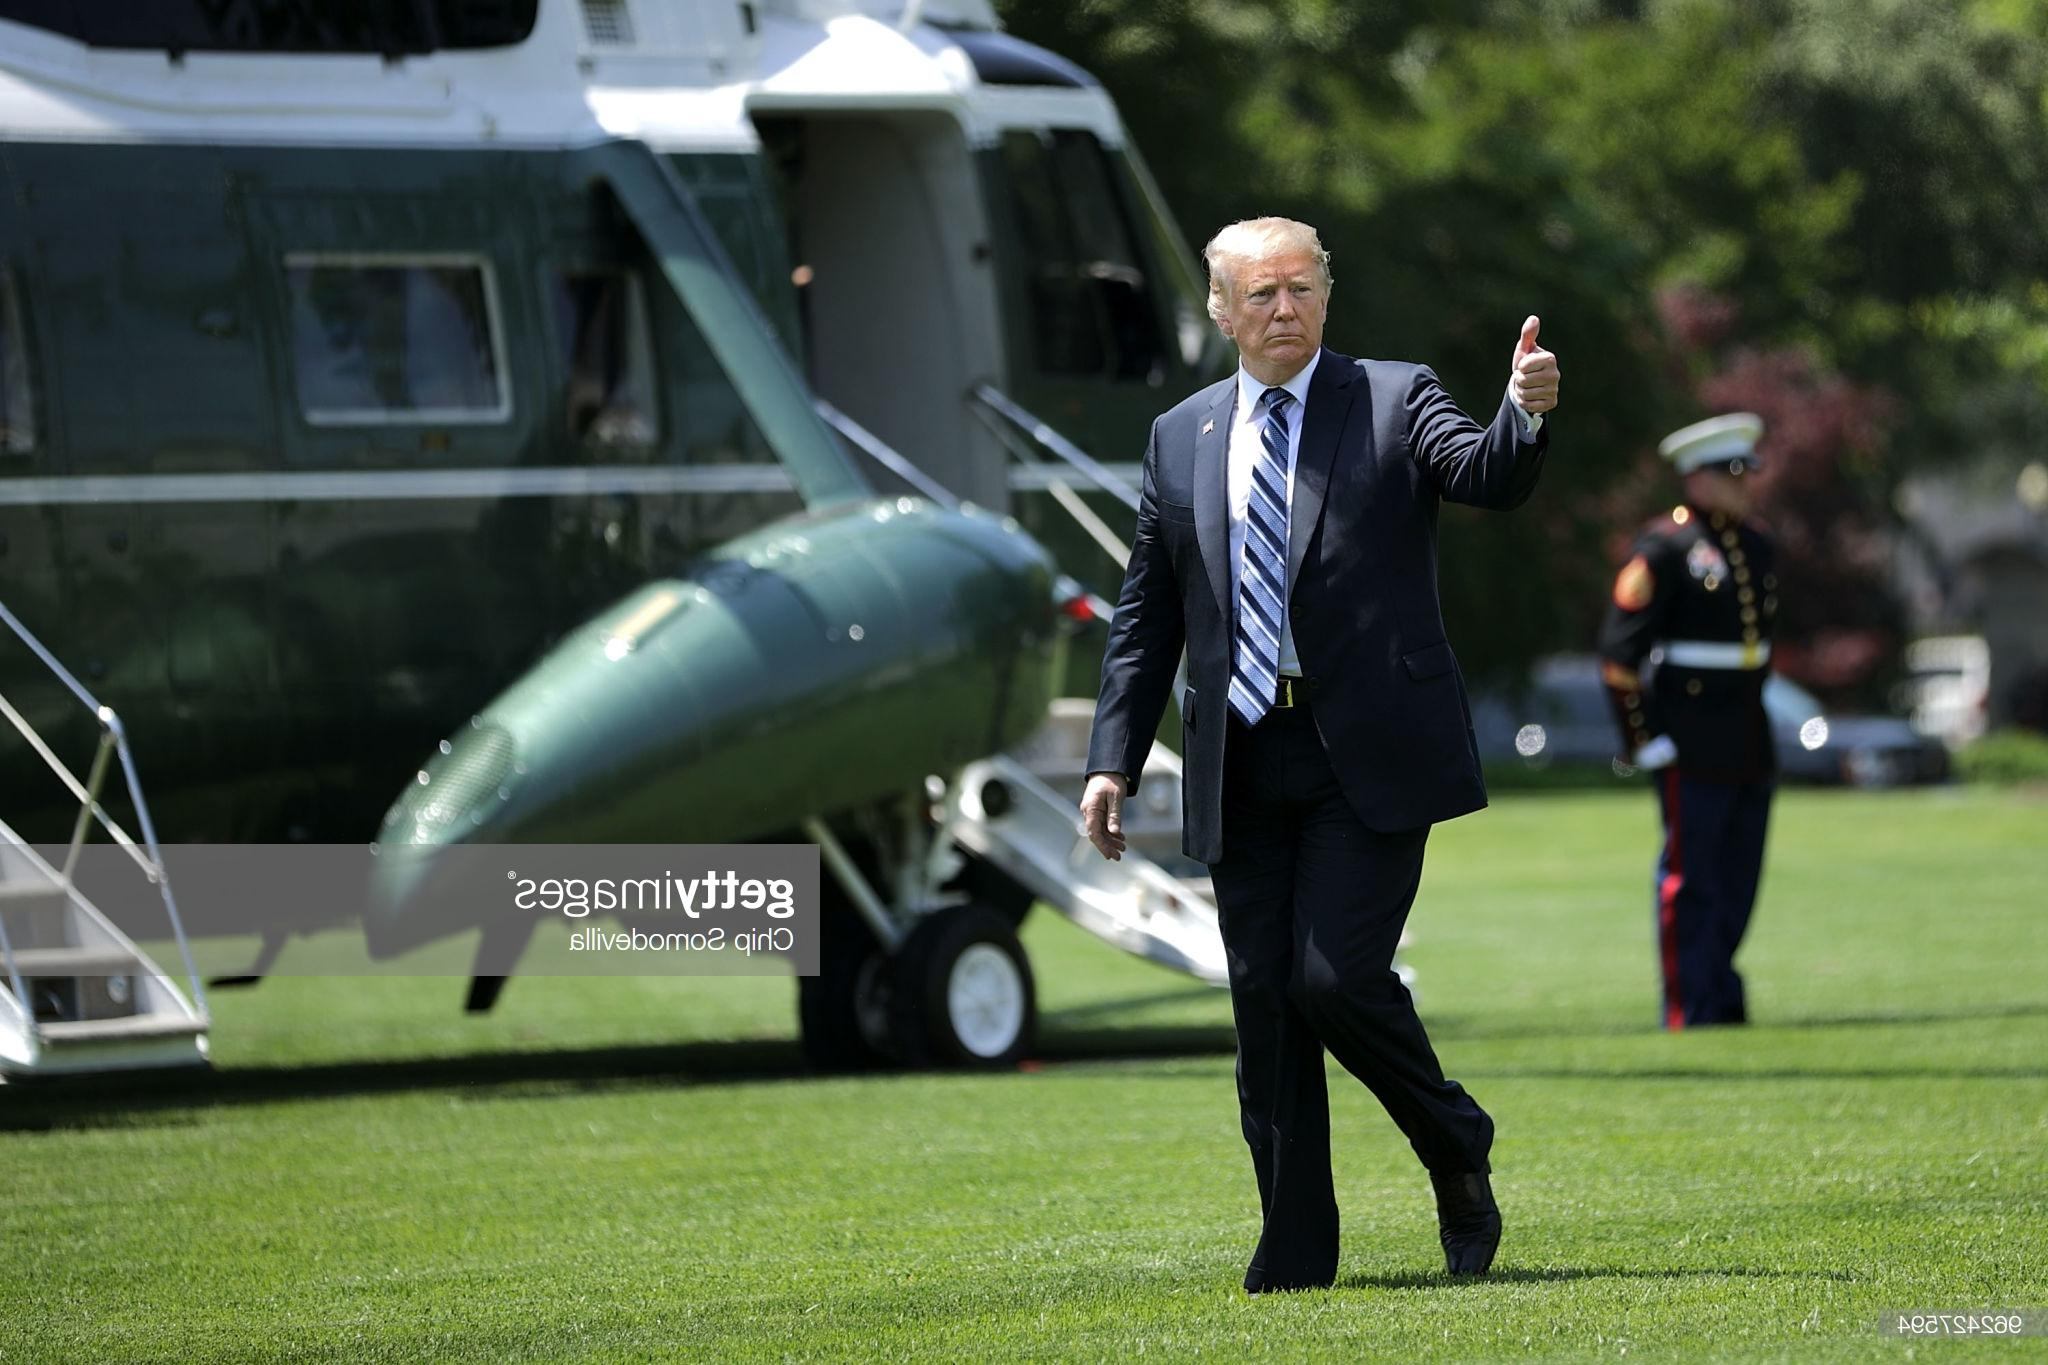thumbsup: (1517, 312, 1561, 411)
